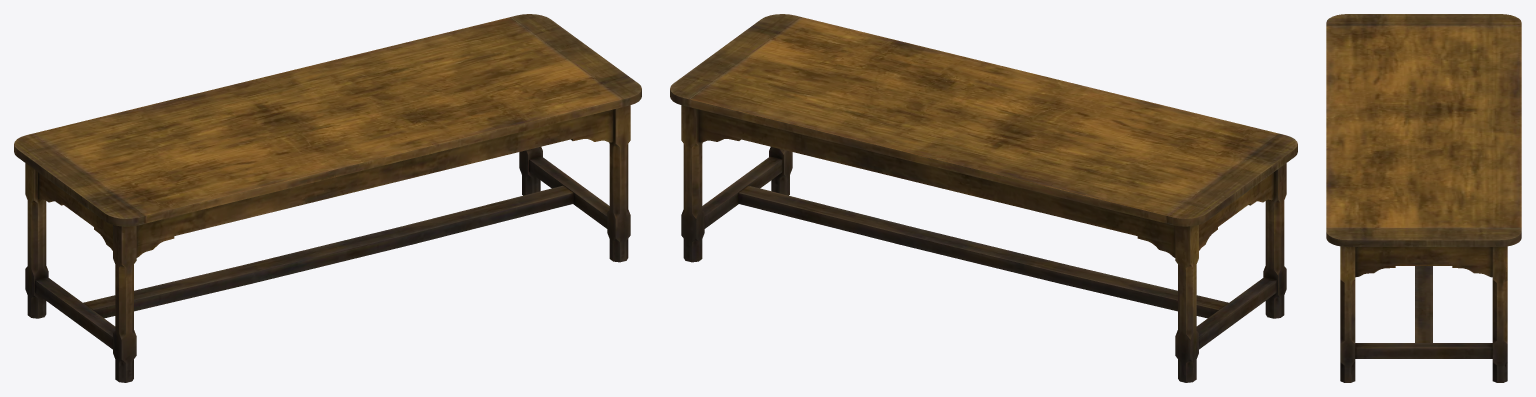
Rendered from WoodenTable_01.glb.
3 renders of one model, left to right at view 1: azimuth 30°, elevation 25°; view 2: azimuth 150°, elevation 25°; view 3: azimuth 270°, elevation 25°, orthographic. The views are drawn at different scales.
Visible parts, largest first — view 1: WoodenTable_01; view 2: WoodenTable_01; view 3: WoodenTable_01.
Boxes of the visible parts, x1,y1,x2,y2 form: WoodenTable_01: [14, 14, 641, 382]; WoodenTable_01: [670, 14, 1297, 382]; WoodenTable_01: [1326, 14, 1521, 382].
Size of the model in its own units: 1.8 by 0.5488 by 0.6571.
Materials: 1 (1 with a texture image).
